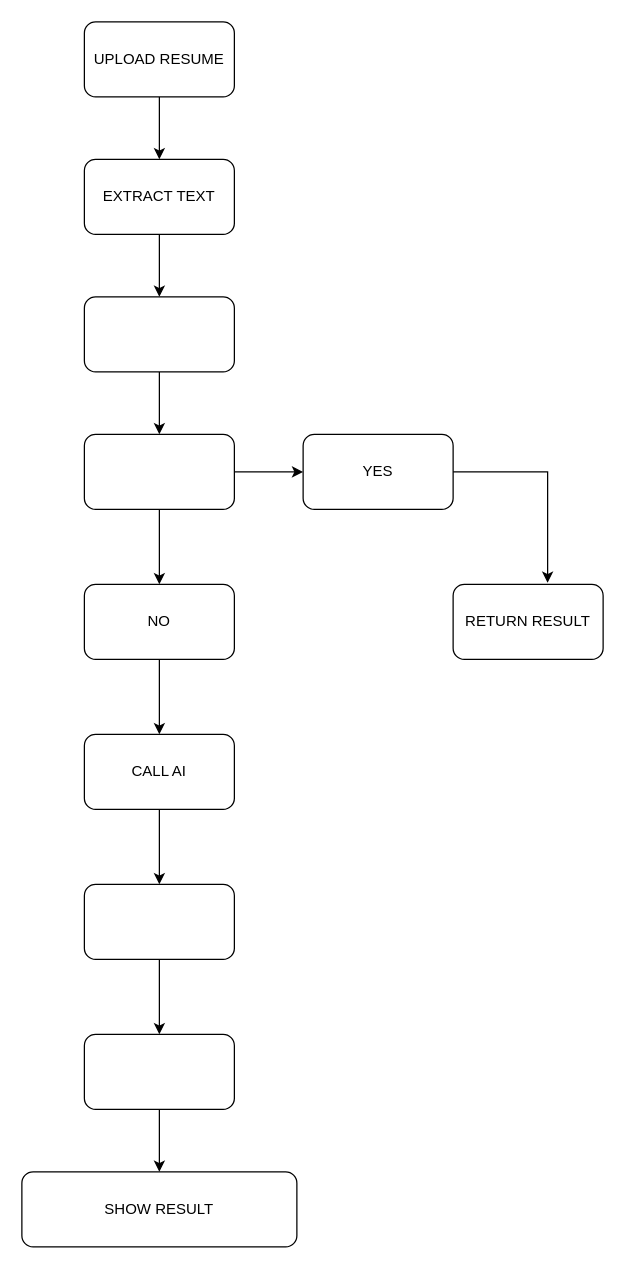
This 625x1269 diagram has some shape labels left out. Each missing label, with the centre of its shape:
CAHE HIT?: point (158, 471)
CHECK REDIS CACHE: point (158, 334)
REDIS CACHE + POSTGRESQL: point (158, 1071)
VALIDATE RESPONSE: point (158, 921)
